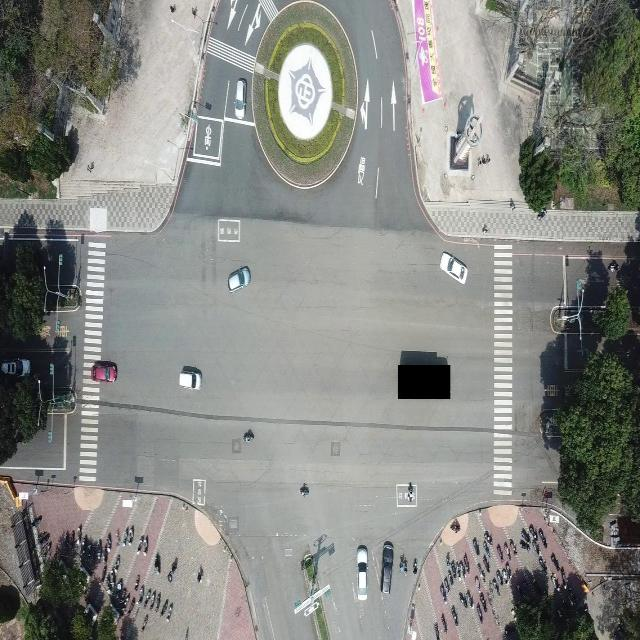bike: (550, 550, 560, 571), (520, 528, 529, 551), (536, 550, 546, 570), (440, 579, 448, 602), (479, 595, 487, 618), (143, 587, 151, 610), (138, 534, 146, 555), (482, 554, 490, 575), (441, 612, 448, 635), (483, 529, 490, 552), (464, 590, 472, 610), (140, 612, 148, 632), (406, 482, 414, 502), (551, 574, 559, 594), (505, 538, 513, 558), (164, 598, 171, 620), (299, 481, 309, 496), (138, 579, 144, 604), (243, 427, 253, 442), (105, 532, 112, 553), (472, 537, 479, 557), (537, 529, 544, 549), (448, 563, 455, 583), (496, 542, 503, 562), (452, 604, 458, 627), (154, 552, 160, 575), (114, 554, 120, 575), (474, 573, 480, 594), (495, 567, 502, 585), (128, 525, 134, 545), (464, 551, 469, 575), (433, 622, 440, 639), (154, 589, 159, 612), (400, 554, 405, 574), (457, 559, 462, 579), (168, 567, 173, 585)
car: (438, 250, 466, 286), (90, 358, 118, 383), (178, 366, 203, 392), (227, 263, 250, 290), (382, 539, 392, 594), (0, 357, 28, 376), (234, 75, 246, 118), (356, 544, 366, 592)
